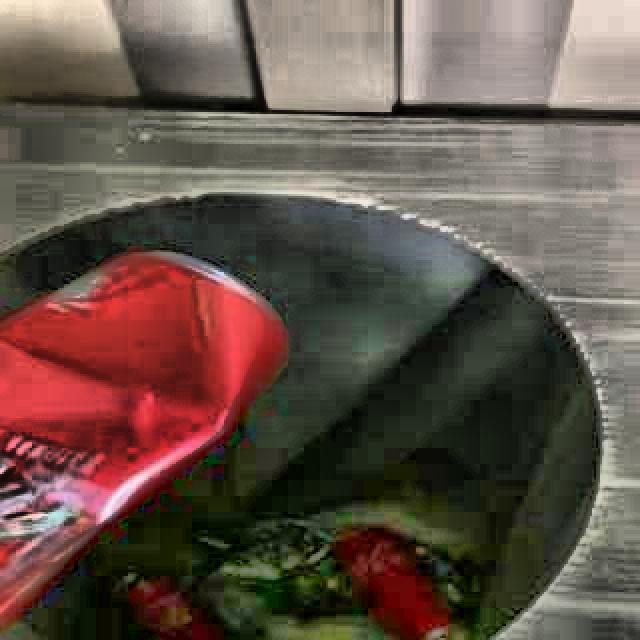metal: (0, 252, 283, 623)
